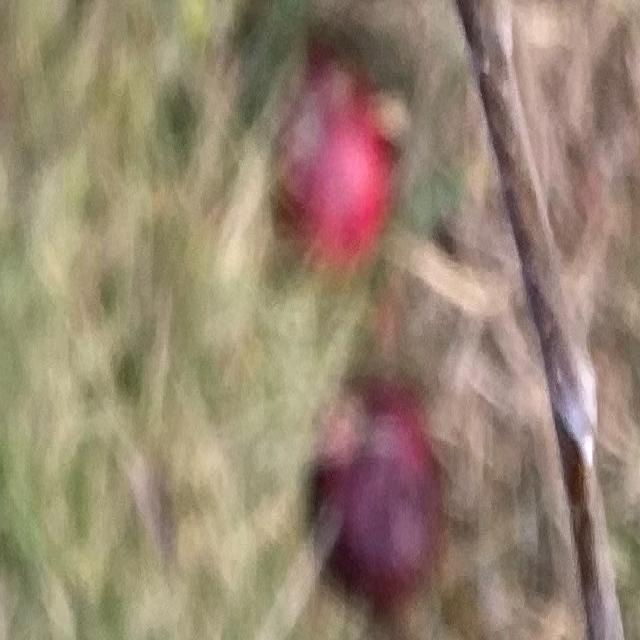100-_ripeness: (314, 381, 436, 599), (279, 68, 393, 263)
